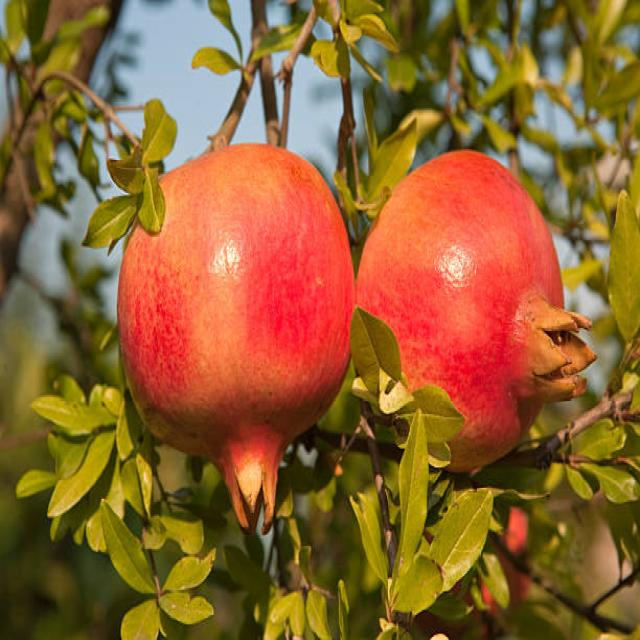Ripe: (115, 136, 356, 530), (359, 145, 597, 472)
